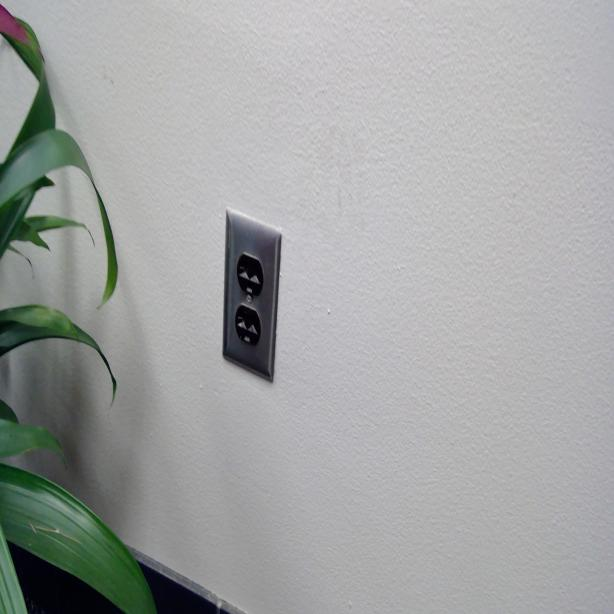typeb: (236, 251, 262, 298), (235, 308, 262, 346)
